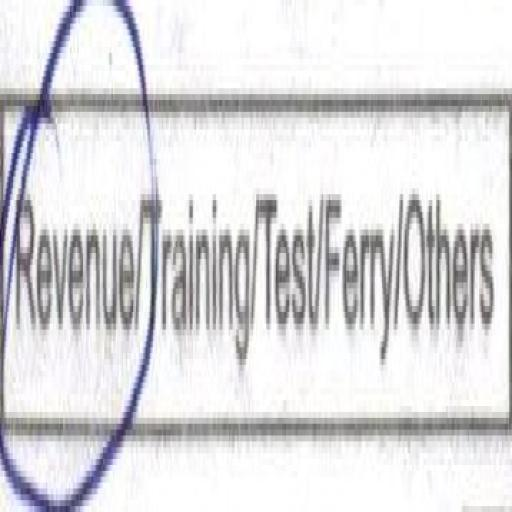check: (2, 0, 134, 512)
